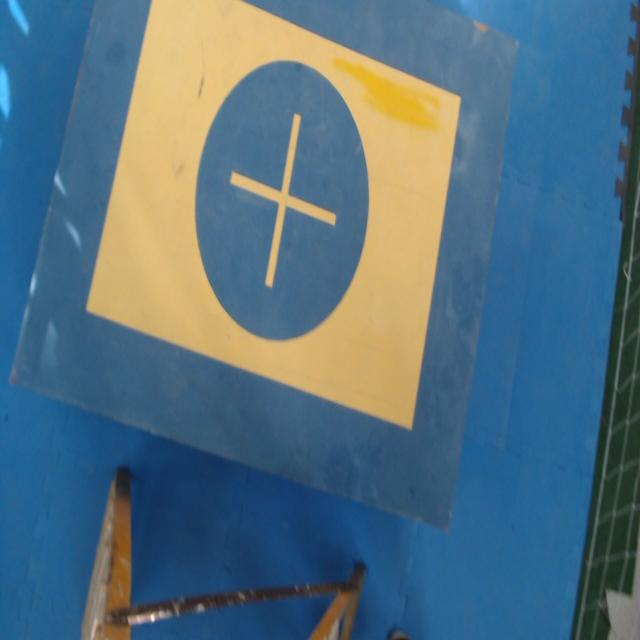base_inicio: (86, 0, 460, 430)
